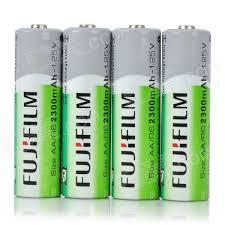AA: (159, 24, 211, 201), (110, 23, 161, 200), (61, 23, 111, 199), (13, 23, 62, 198)
